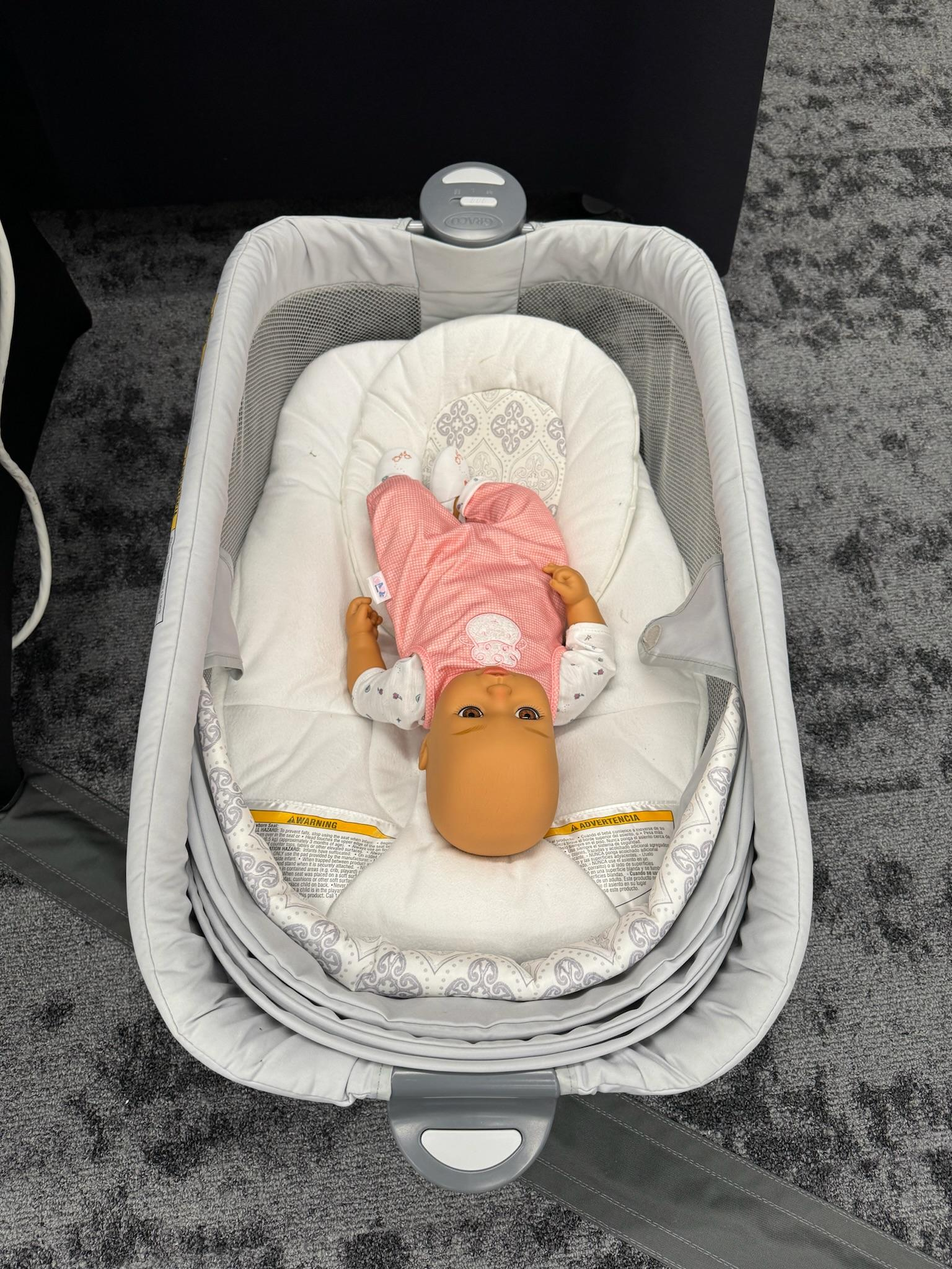baby: (344, 428, 621, 870)
